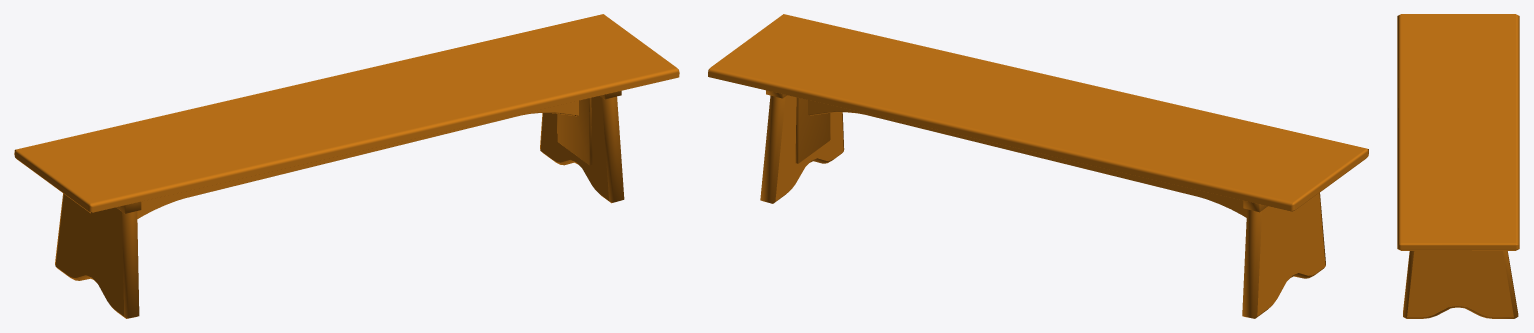
Rendered from Kursi.fbx.
The picture shows the model from 3 angles, left to right: view 1: azimuth 30°, elevation 25°; view 2: azimuth 150°, elevation 25°; view 3: azimuth 270°, elevation 25°; orthographic projection. The views are drawn at different scales.
Parts seen in each view (by area): view 1: Cube; view 2: Cube; view 3: Cube.
Part boxes in pixels (x1,y1,x2,y2): Cube: (14, 14, 679, 318); Cube: (708, 14, 1368, 318); Cube: (1397, 14, 1519, 318).
Bounding box in the file's own units: 110 × 23.33 × 25.45.
